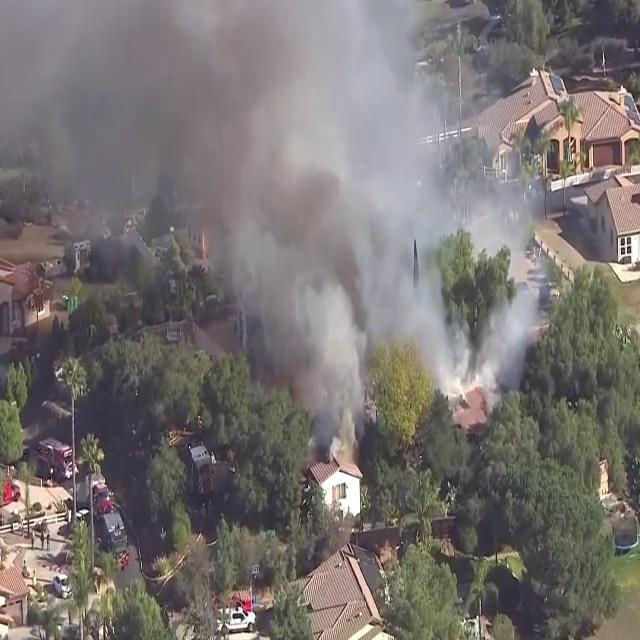Smoke: (1, 0, 472, 419)
